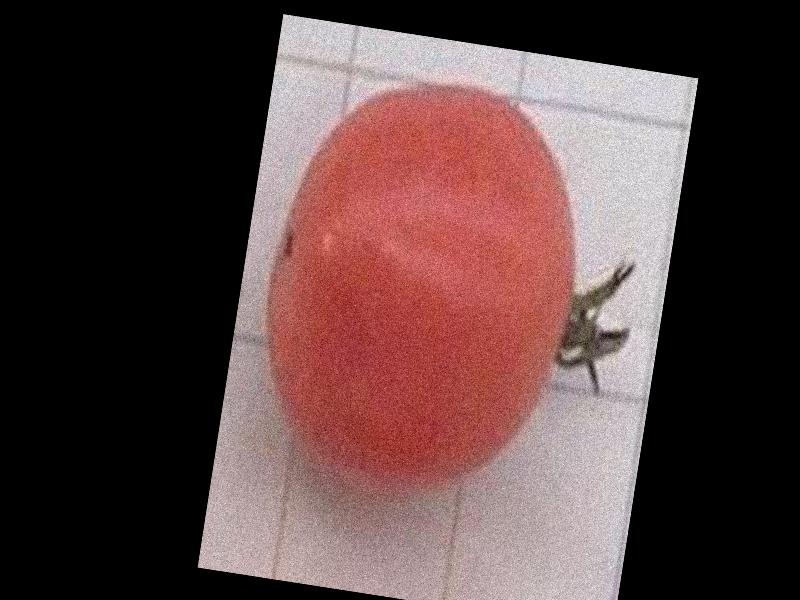Tomato: (240, 62, 599, 512)
